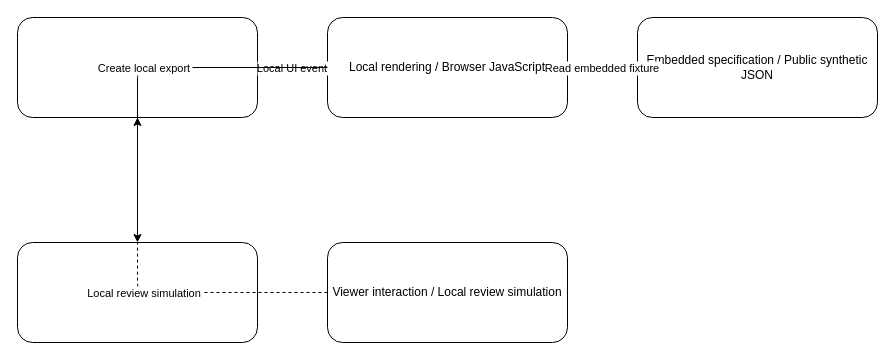
Image size: 895x360. Some labels were removed from this diagram. The centre of each missing label's shape, as x and y in pixels:
"Customer portal / Offline HTML" goes at pixel 137 67.
"Portable downloads / Browser Blob export" goes at pixel 137 292.
